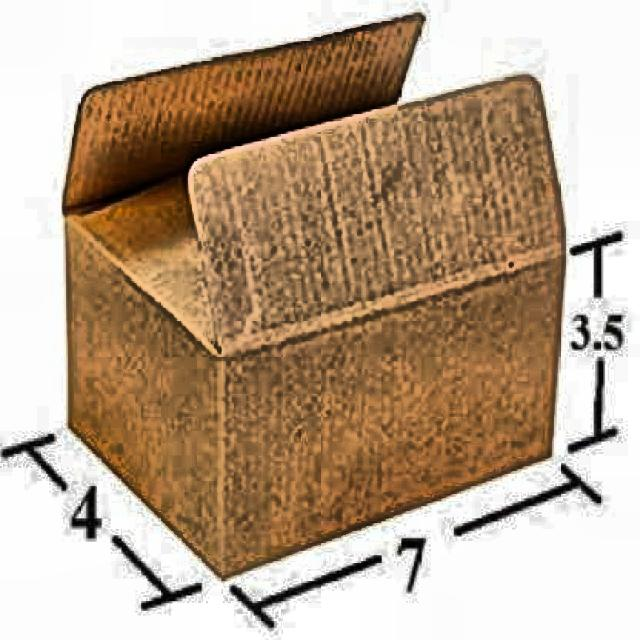Cardbox: (47, 17, 567, 595)
